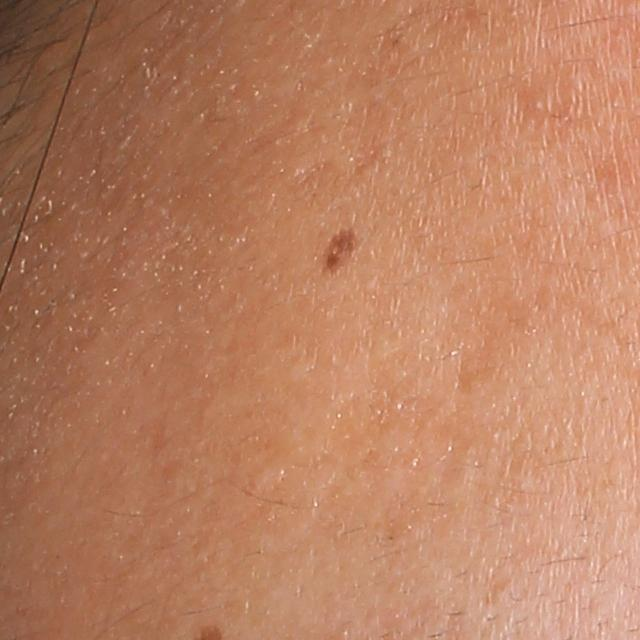nevus: (320, 227, 359, 281)
